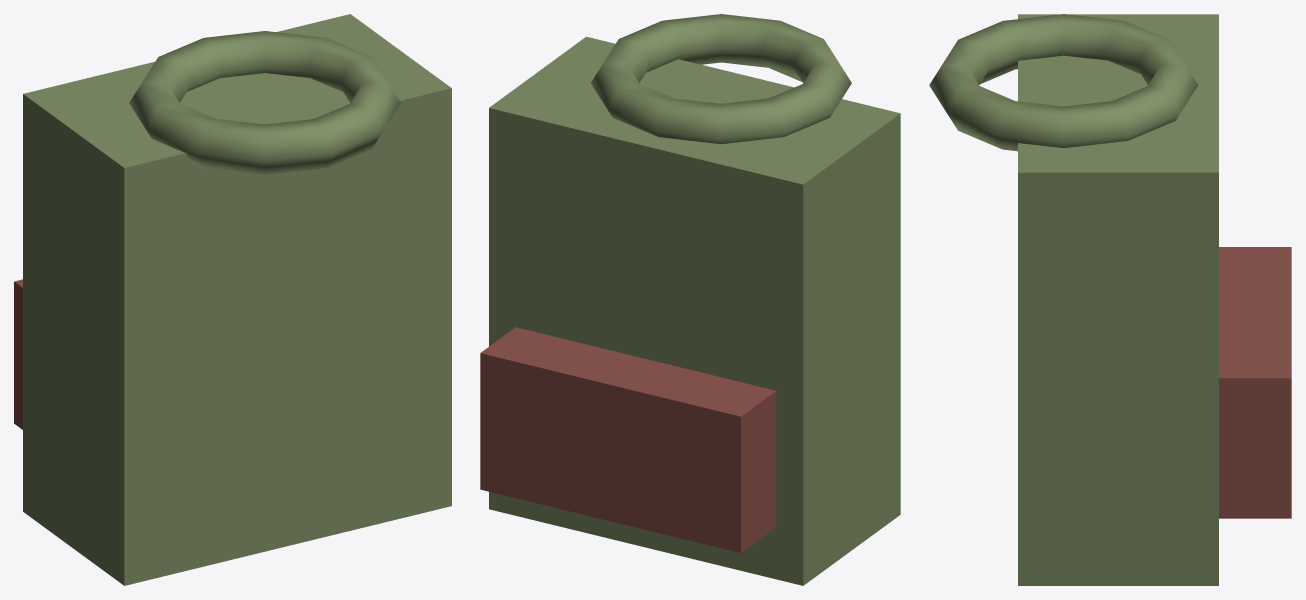
Rendered from backpack.glb.
3 renders of one model, left to right at view 1: azimuth 30°, elevation 25°; view 2: azimuth 150°, elevation 25°; view 3: azimuth 270°, elevation 25°, orthographic. The views are drawn at different scales.
Visible parts, largest first — view 1: backpack; view 2: backpack; view 3: backpack.
Part boxes in pixels (x1,y1,x2,y2): backpack: (14, 14, 451, 585); backpack: (480, 14, 900, 585); backpack: (929, 14, 1291, 585).
Bounding box in the file's own units: 0.82 × 1.07 × 0.795.
